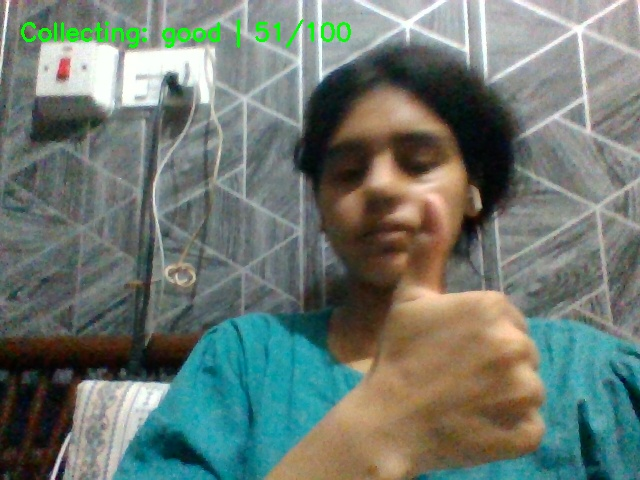good: (372, 187, 585, 474)
